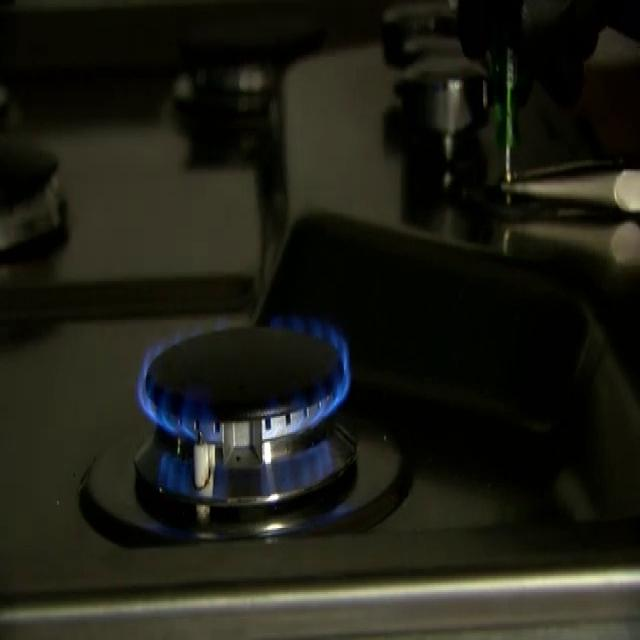fire: (114, 276, 388, 541)
